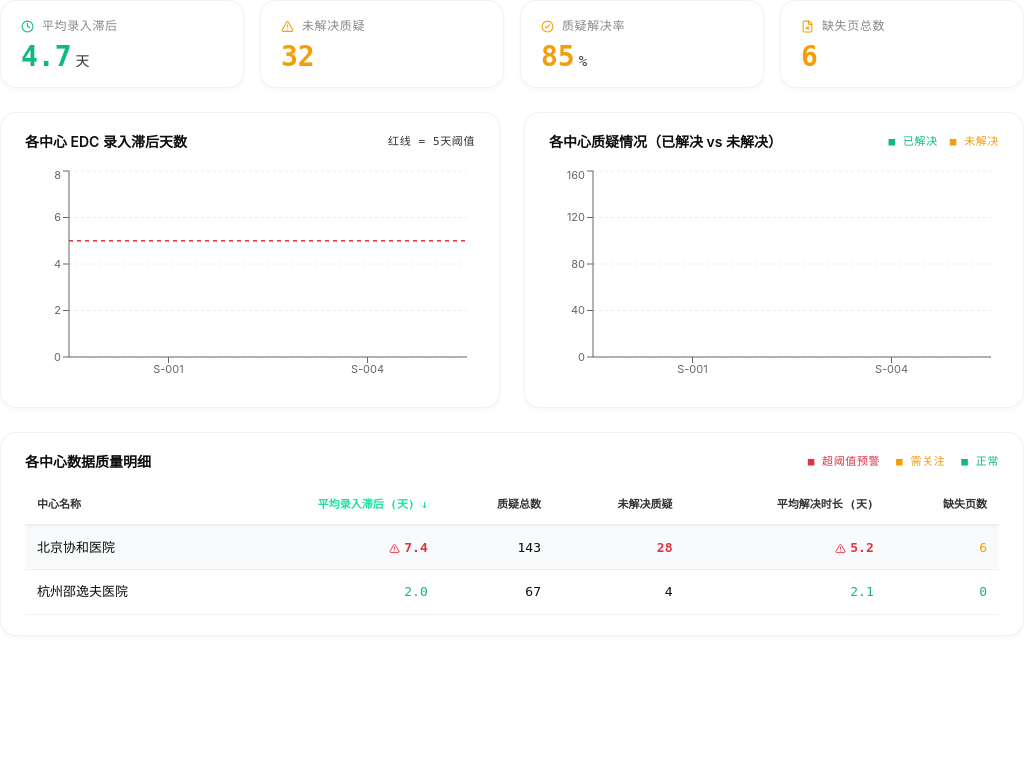
Test: DataQuality › changes sort when column header clicked
Click the column heading "未解决质疑" at coordinates (619, 506), box [553,487,684,525]
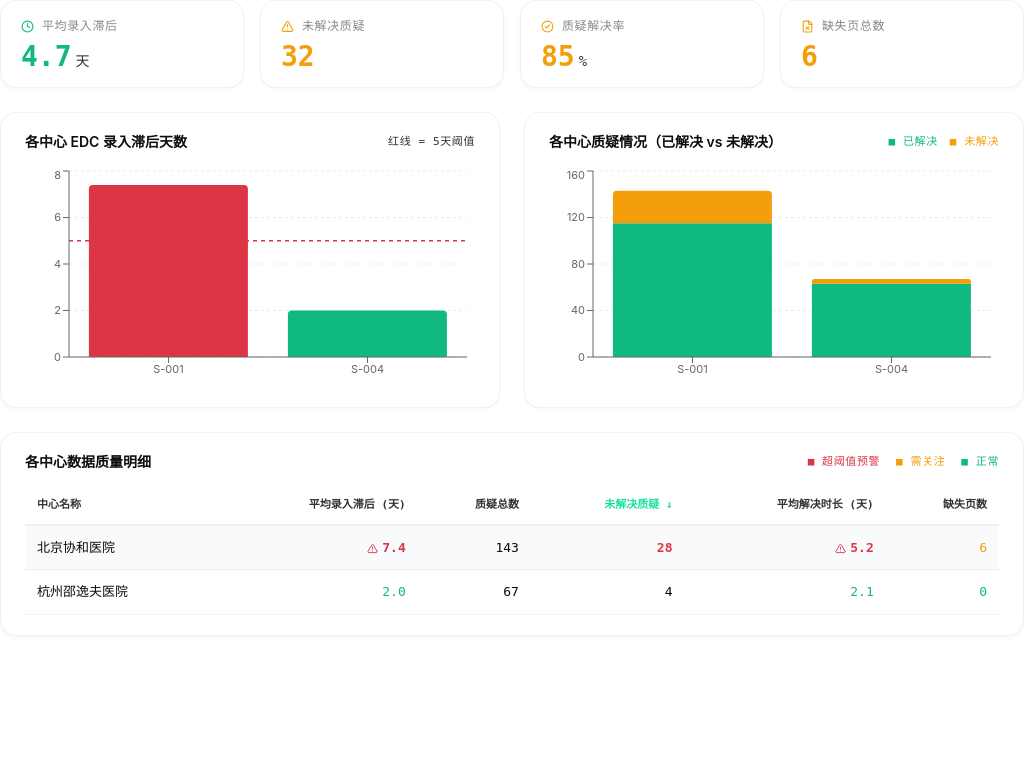
Check: the column heading "未解决质疑 ↓" is shown, box [531,487,684,525]
